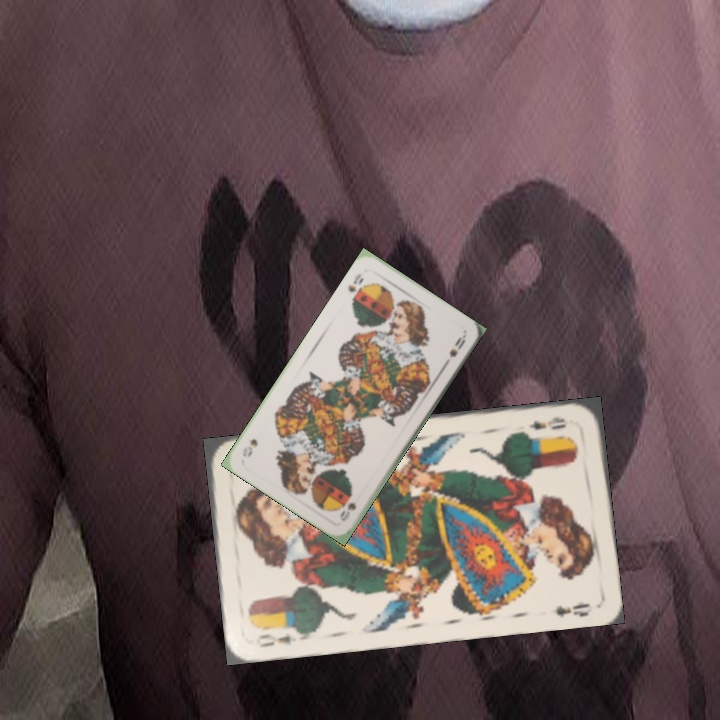EO: (252, 623, 308, 650), (524, 413, 568, 433)
SO: (335, 498, 359, 524), (344, 269, 366, 295)
